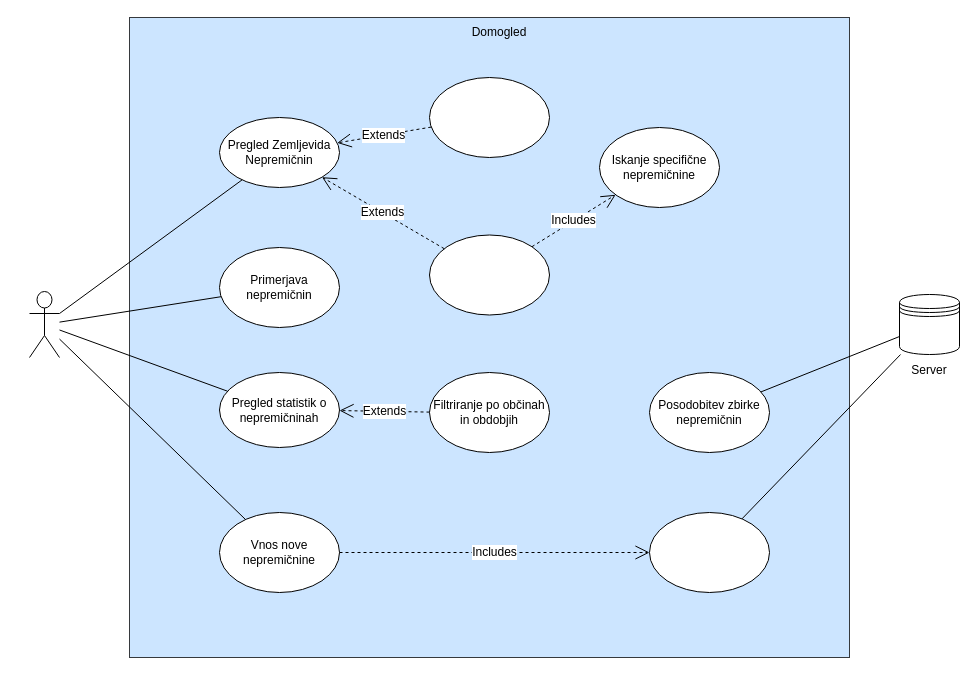
Some shapes in this 977 by 675 pixel diagram are drawn without their labels. Here are the shapes that lost their labels. From the top down, the centre of each, then its label:
At point 489,117: "Filtriranje nepremičnin".
At point 489,274: "Pregled specifične nepremičnine".
At point 44,324: "Uporabnik".
At point 709,552: "Izračun predvidene vrednosti nepr.".
